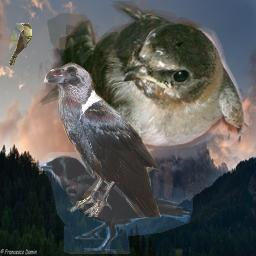Crow: (43, 62, 161, 217), (38, 152, 193, 254)
Cuckoo: (9, 23, 32, 66)
Swallow: (35, 1, 249, 193)
